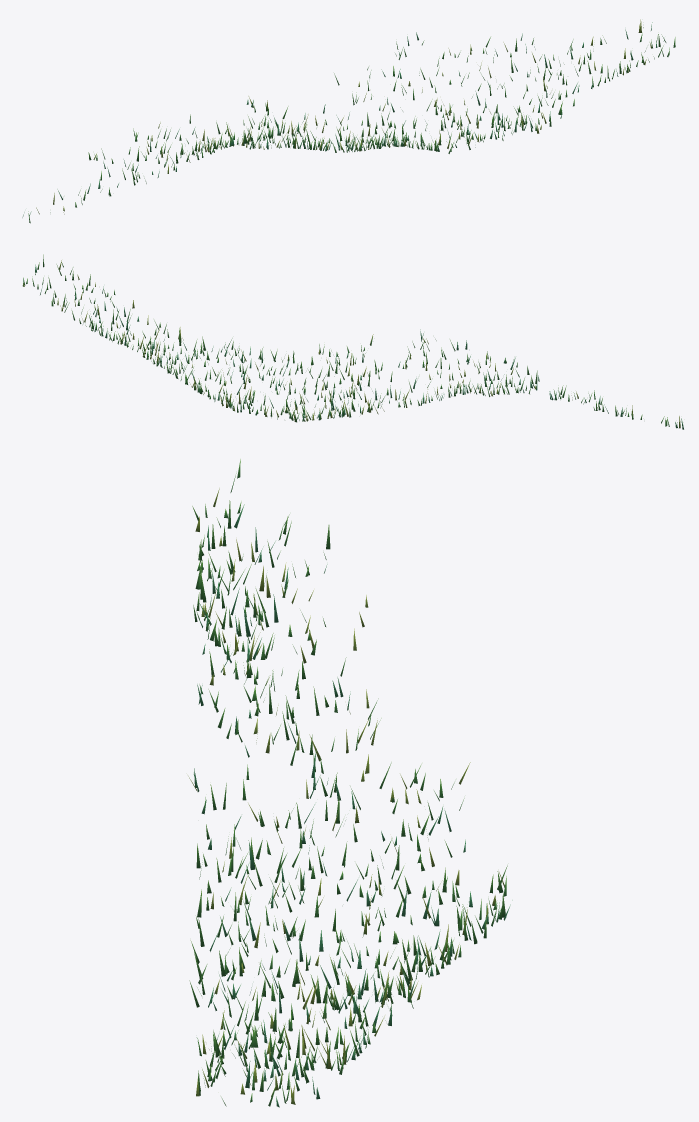
3 renders of one model, top to bottom at view 1: azimuth 30°, elevation 25°; view 2: azimuth 150°, elevation 25°; view 3: azimuth 270°, elevation 25°, orthographic. The views are drawn at different scales.
Parts seen in each view (by area): view 1: gc_65; view 2: gc_65; view 3: gc_65.
Boxes of the visible parts, box(x1,y1,x2,y2) form: gc_65: box(22, 19, 675, 223); gc_65: box(22, 254, 683, 429); gc_65: box(188, 459, 512, 1107).
Size of the model in its own units: 16.65 by 2.19 by 3.67.
1 material, 1 textured.
